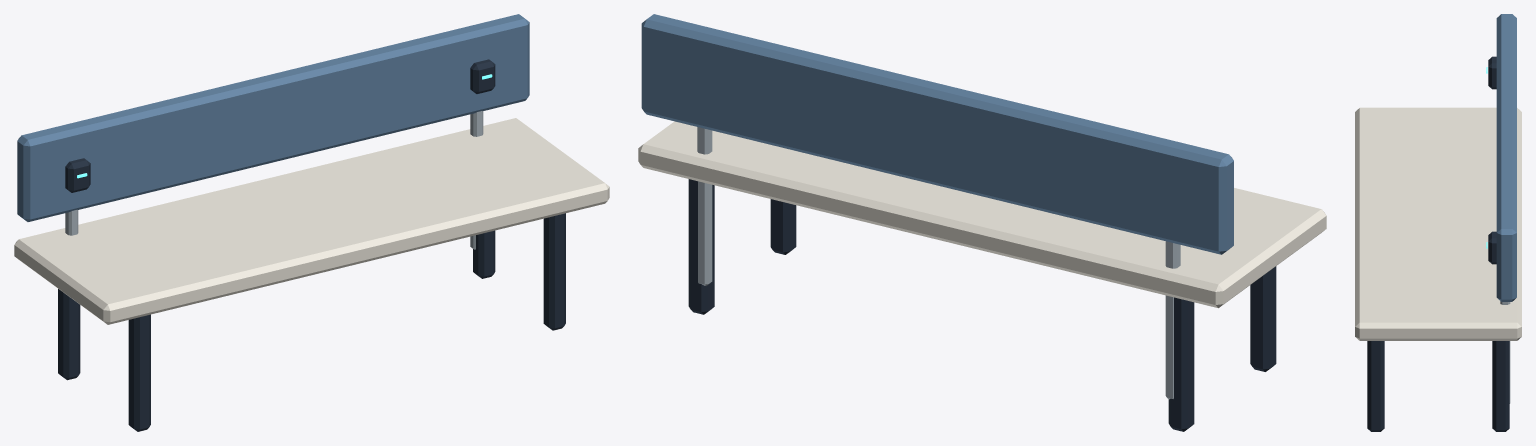
The model's file is public_12.glb.
3 views of the same model, side by side, from view 1: azimuth 30°, elevation 25°; view 2: azimuth 150°, elevation 25°; view 3: azimuth 270°, elevation 25° (orthographic). The views are drawn at different scales.
Visible parts, largest first — view 1: TableTop, ChargingBack, Leg (×4), USBModule (×2); view 2: ChargingBack, TableTop, Leg (×4), BenchFrame (×2); view 3: TableTop, ChargingBack, Leg (×2), USBModule (×2).
Part boxes in pixels (<box>): TableTop: <box>14,118,609,324</box>; ChargingBack: <box>17,14,529,221</box>; Leg (×4): <box>58,213,565,431</box>; USBModule (×2): <box>65,59,495,192</box>; ChargingBack: <box>641,14,1233,254</box>; TableTop: <box>638,121,1326,308</box>; Leg (×4): <box>688,179,1276,431</box>; BenchFrame (×2): <box>697,127,1180,399</box>; TableTop: <box>1355,107,1521,340</box>; ChargingBack: <box>1496,14,1516,301</box>; Leg (×2): <box>1367,341,1509,431</box>; USBModule (×2): <box>1488,56,1496,264</box>.
Bounding box in the file's own units: 1.8 × 0.84 × 0.58.
